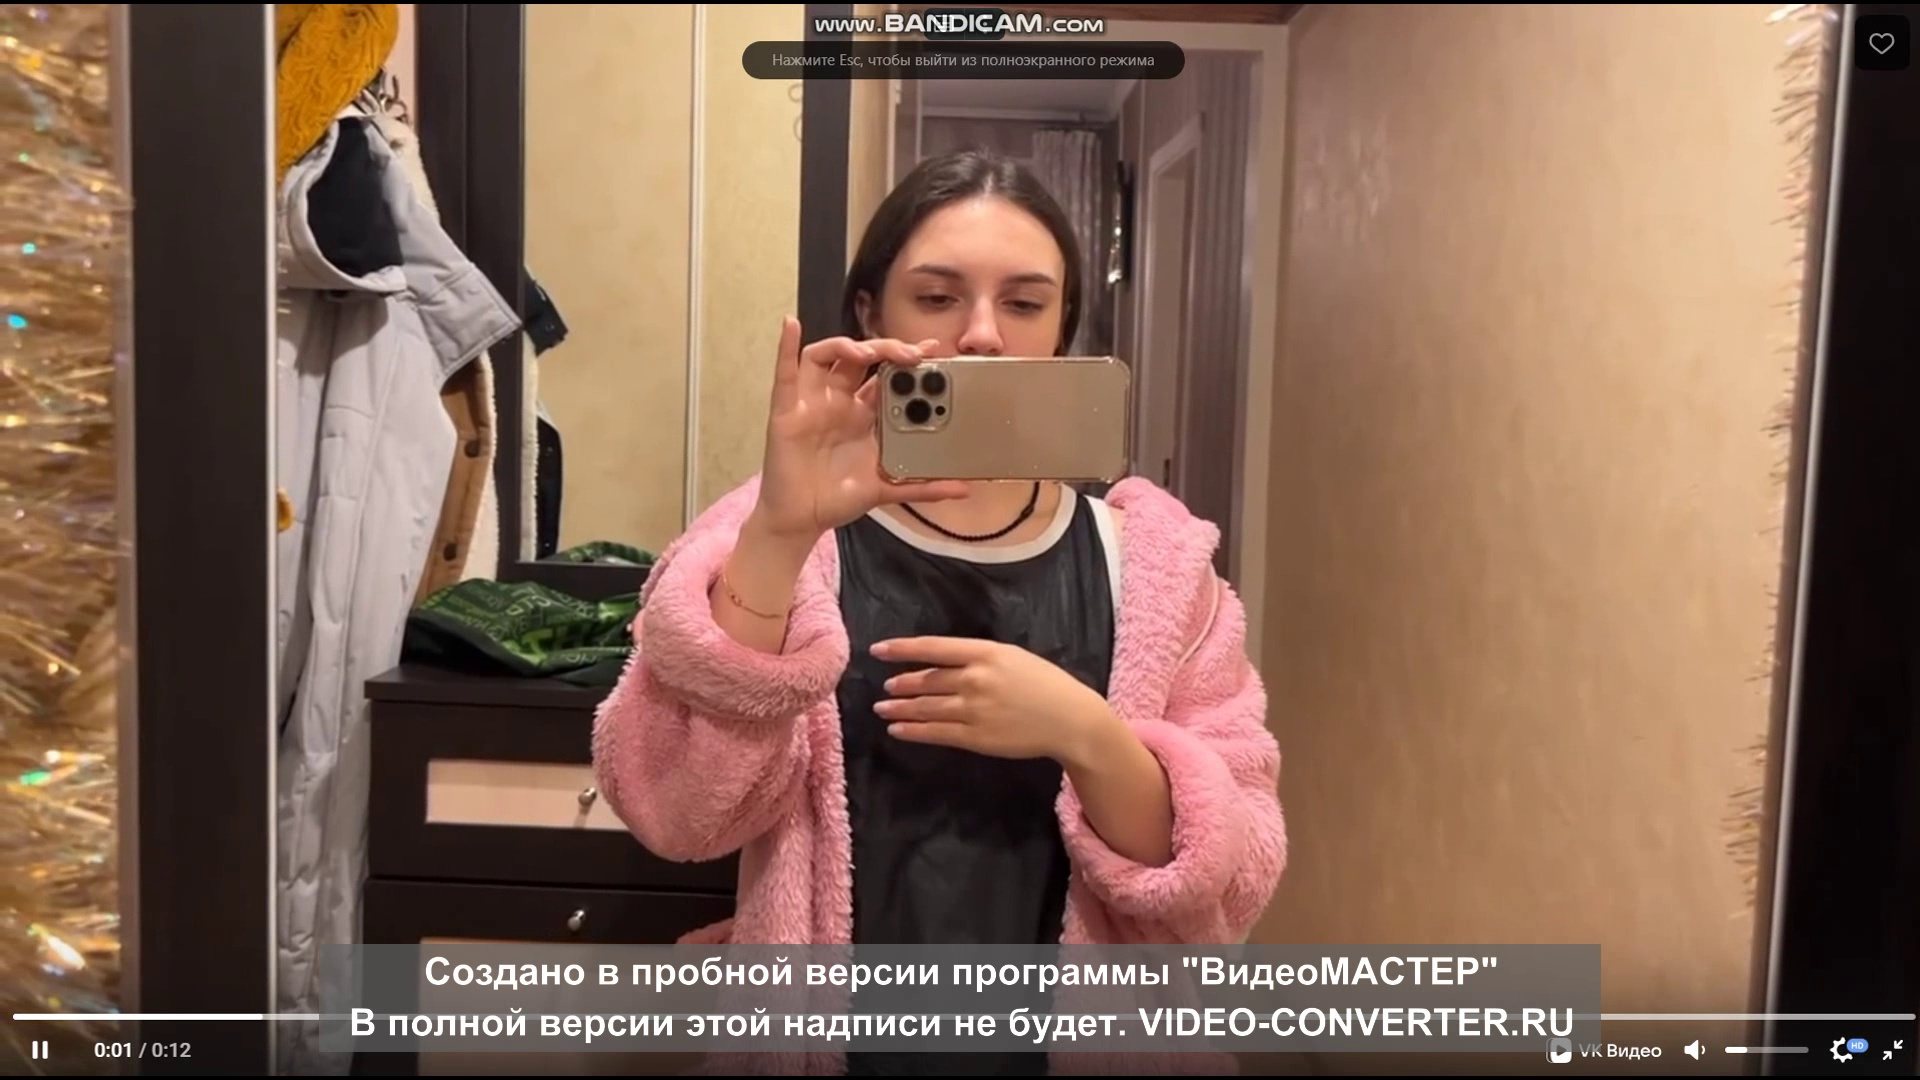Кисть: (866, 636, 1060, 760)
